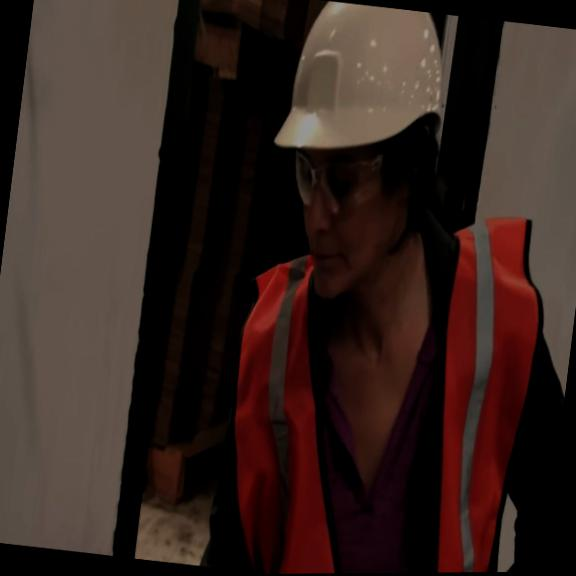safety_vest: (211, 176, 555, 574)
